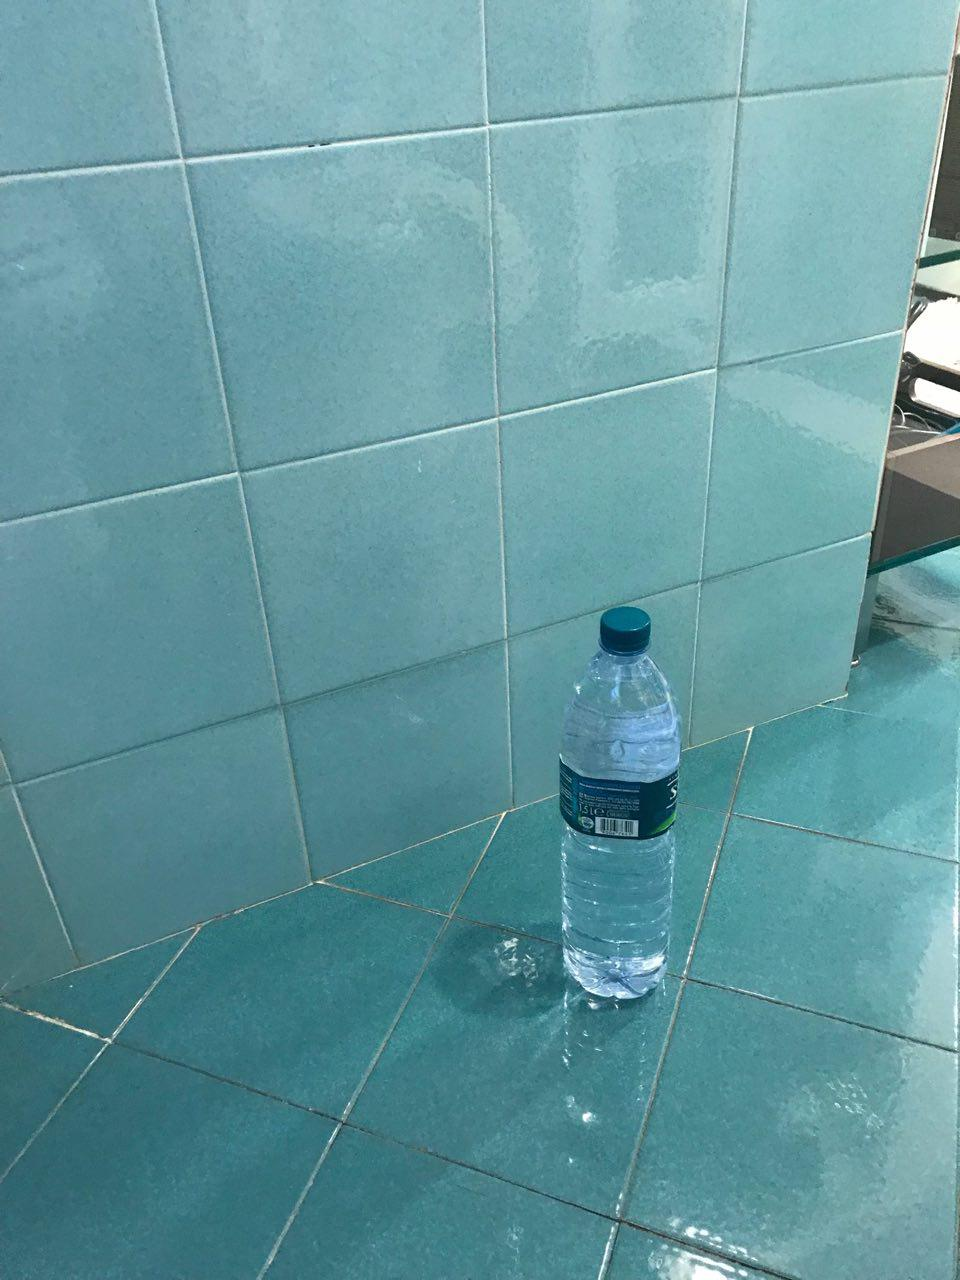san_bernardo: (558, 604, 682, 1000)
